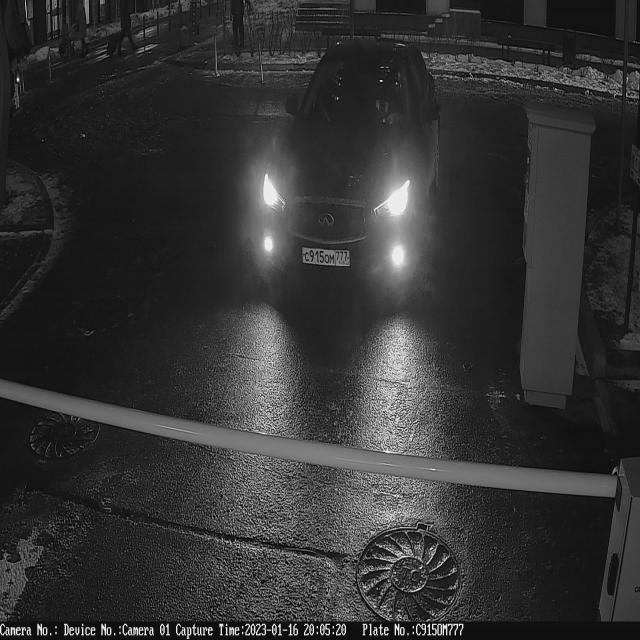car-plate-numbers: (301, 242, 356, 273)
